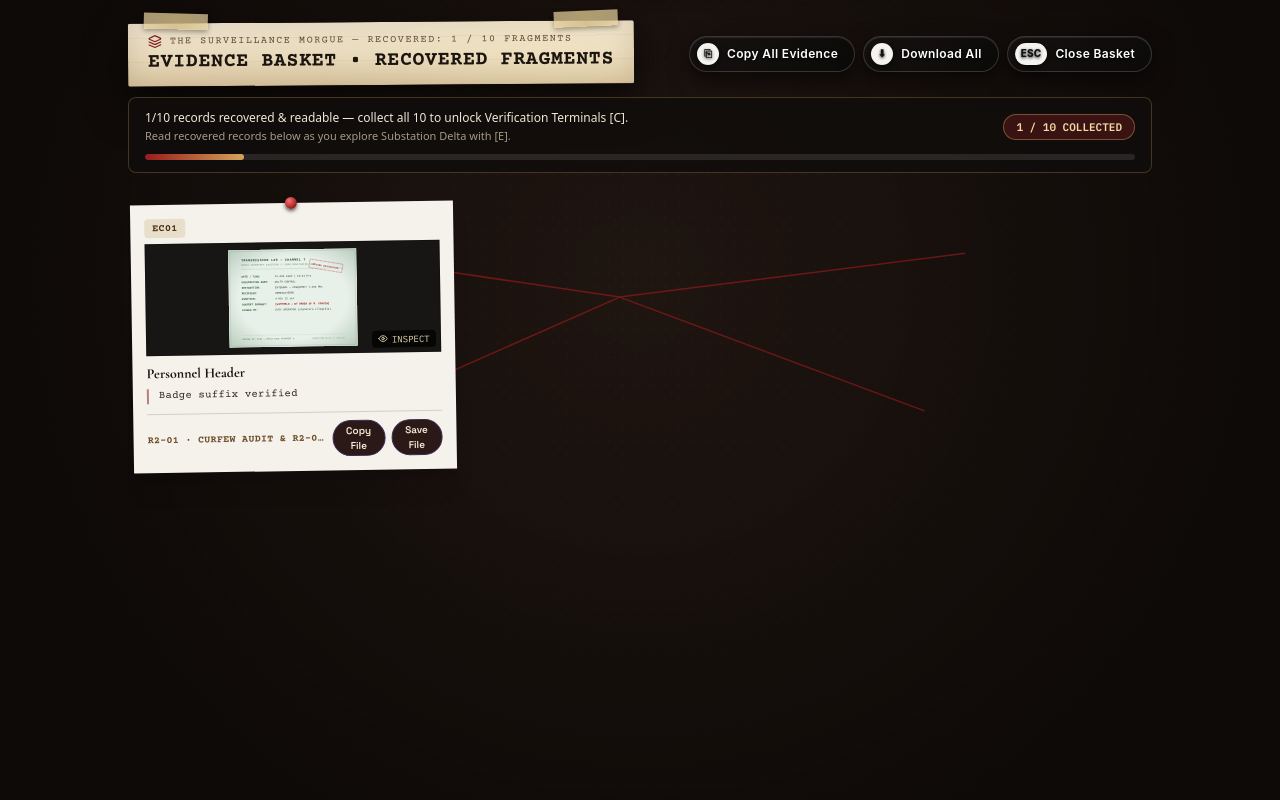
Test: Room 5 (The Surveillance Morgue) Frontend Test Suite › QA-R5-FE-51: ControlBasketModal renders 10-fragment progress, Close Basket, and optical sliders
The width and height of the screenshot is (1280, 800).
Check: the text "1 / 10 COLLECTED" is shown, box [1003, 114, 1135, 140]
Check: the text "Close Basket" is shown, box [1055, 44, 1135, 62]
Step 1. Click the heading "Personnel Header" → x=196, y=373, box [146, 364, 245, 382]
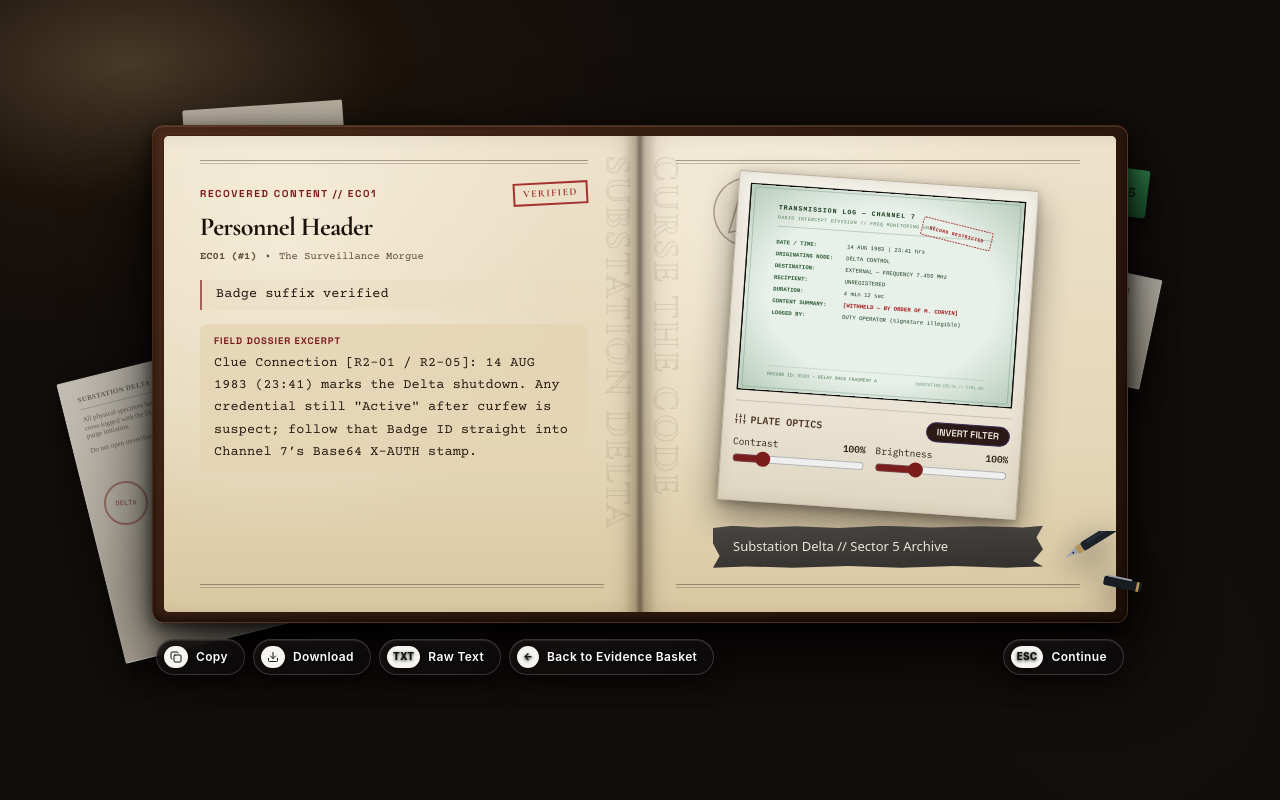
Check: the text "Contrast" is shown, box [732, 435, 779, 452]
Check: the text "Brightness" is shown, box [875, 445, 933, 463]
